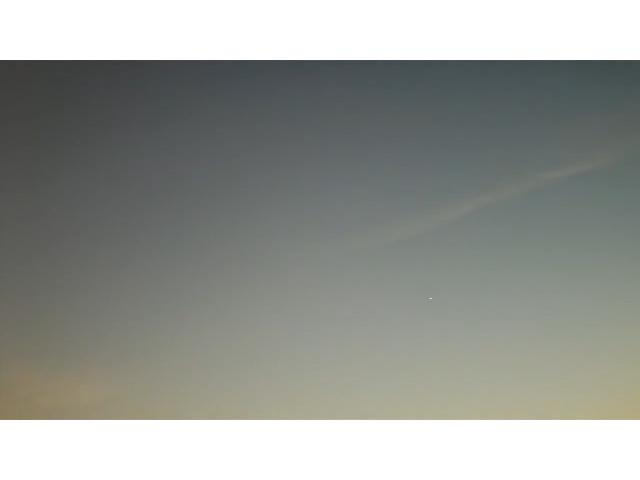Anti-Drone: (426, 295, 434, 299)
